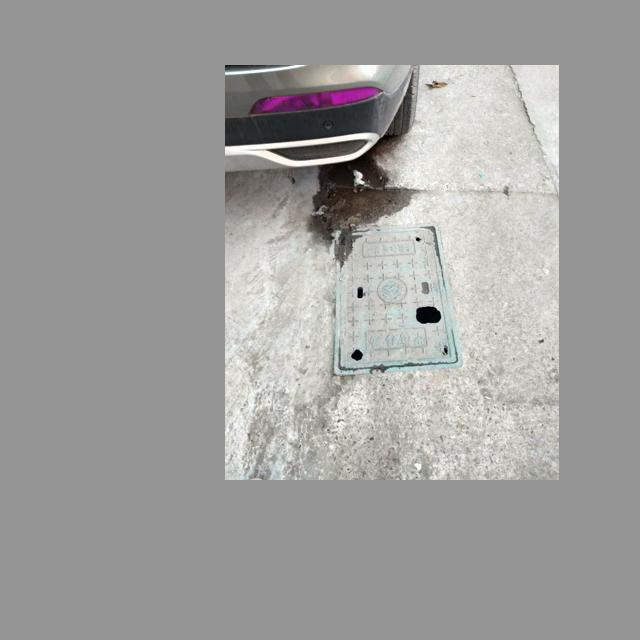broke: (332, 223, 463, 375)
